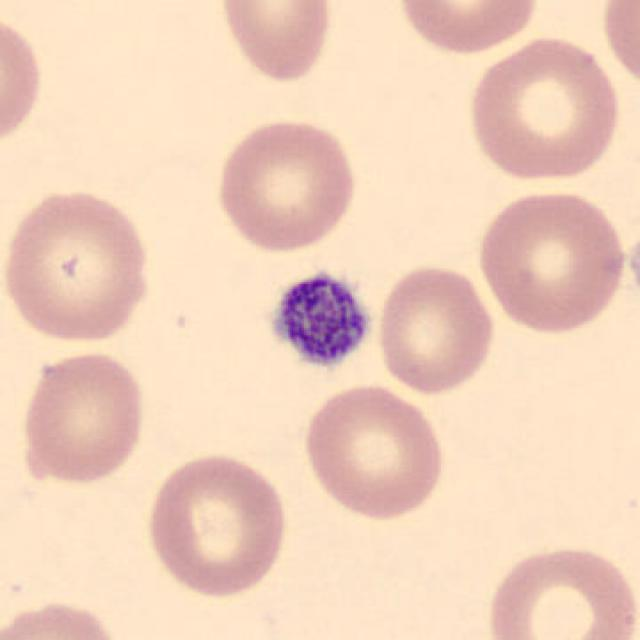Platelets: (261, 266, 377, 372)
RBC: (0, 183, 156, 347), (462, 32, 624, 185), (473, 185, 627, 337), (142, 450, 292, 600), (298, 379, 449, 524), (211, 112, 361, 255), (16, 348, 151, 488), (374, 261, 499, 397), (481, 539, 638, 640), (213, 0, 337, 86), (393, 0, 544, 56), (0, 9, 48, 155), (0, 594, 128, 640), (597, 0, 640, 97), (626, 213, 640, 323)
